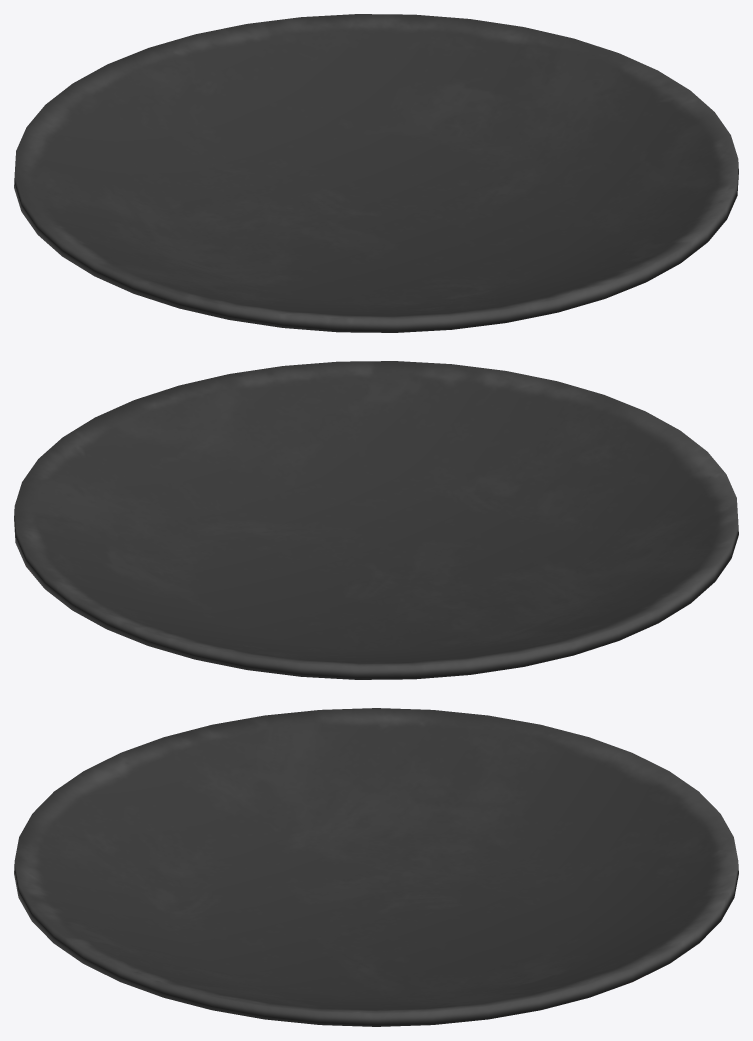
The model's file is SM_Dish2.fbx.
3 views of the same model, one above another, from view 1: azimuth 30°, elevation 25°; view 2: azimuth 150°, elevation 25°; view 3: azimuth 270°, elevation 25° (orthographic).
Visible parts, largest first — view 1: SM_Dish2_LOD0; view 2: SM_Dish2_LOD0; view 3: SM_Dish2_LOD0.
Boxes of the visible parts, <box> form: SM_Dish2_LOD0: <box>14,14,738,332</box>; SM_Dish2_LOD0: <box>14,361,738,679</box>; SM_Dish2_LOD0: <box>14,708,738,1026</box>.
Size of the model in its own units: 23.23 by 23.23 by 2.81.
Materials: 1 (1 with a texture image).
